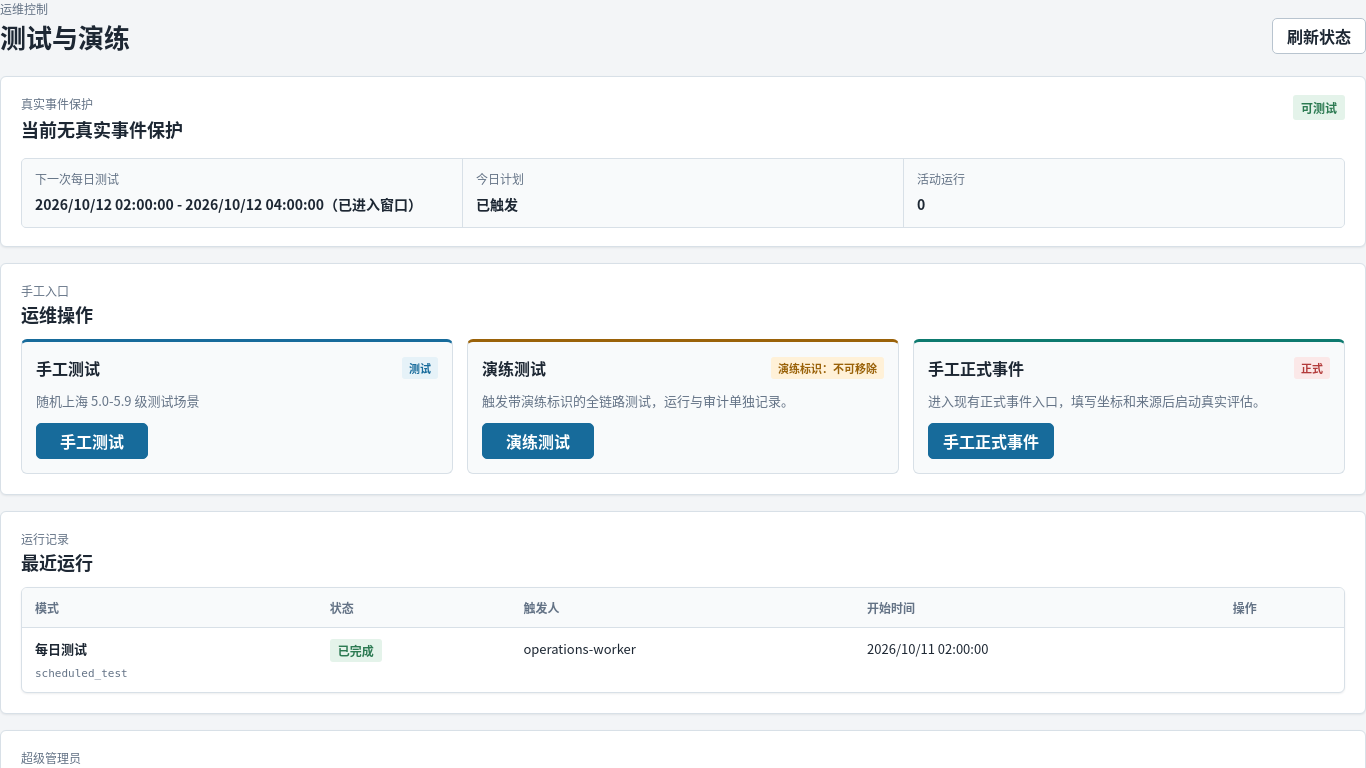
it: shows deferred drill feedback without a fake run number when there is no run
The image size is (1366, 768).
Click the button "演练测试". click: (538, 441)
box: left=482, top=423, right=594, bottom=459
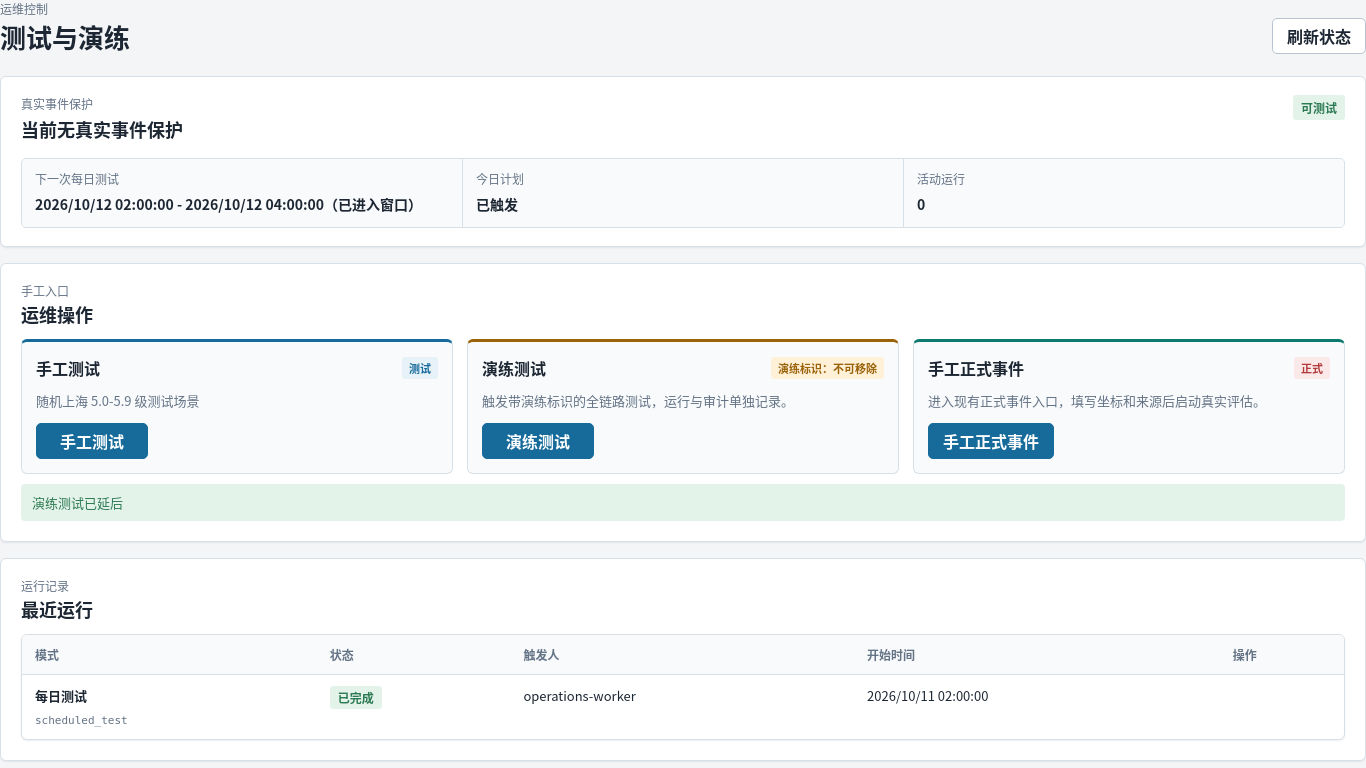
Result: the text "演练测试已延后" is shown at left=21, top=484, right=1345, bottom=521
